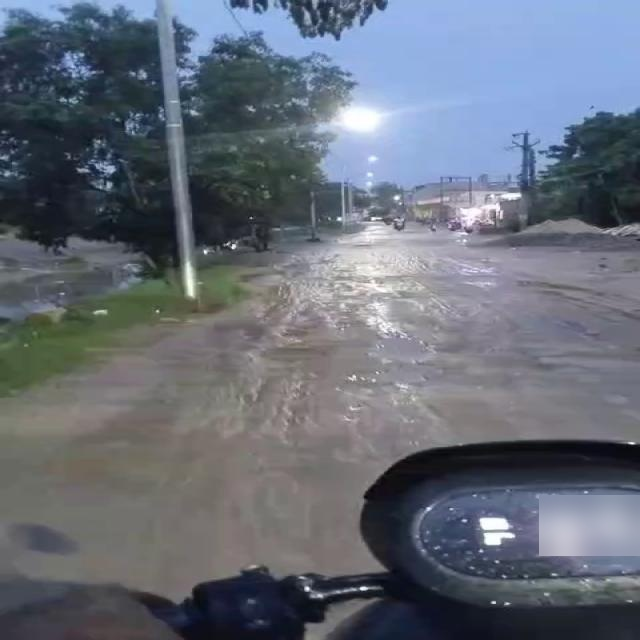pothole: (333, 364, 442, 386), (372, 333, 434, 363), (258, 342, 328, 366), (540, 354, 632, 371), (457, 276, 500, 292), (276, 322, 310, 340), (458, 262, 494, 278), (606, 389, 628, 406)
